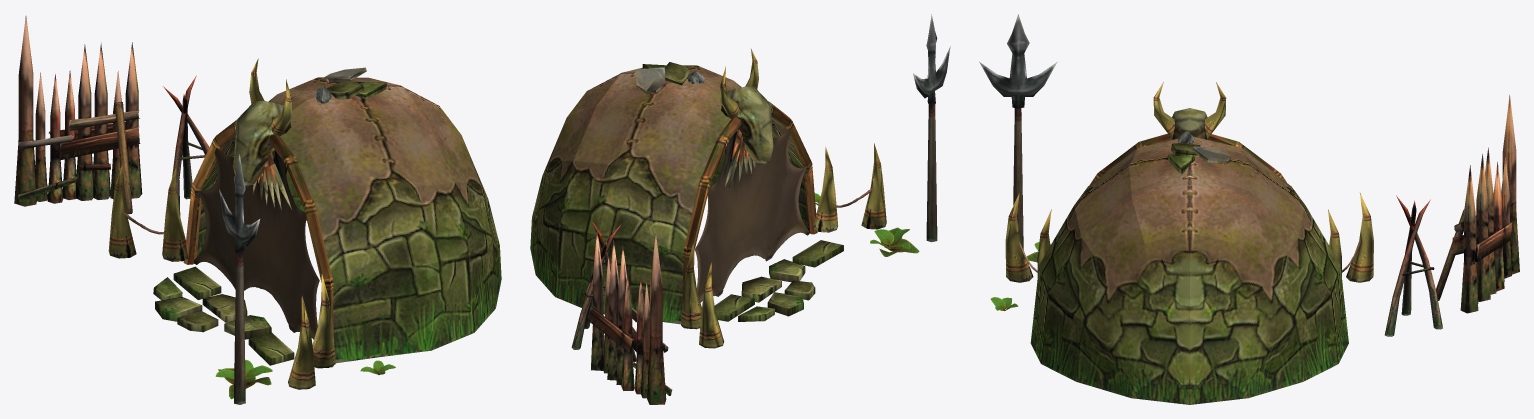
Rendered from dongxue.FBX.
The picture shows the model from 3 angles, left to right: view 1: azimuth 30°, elevation 25°; view 2: azimuth 150°, elevation 25°; view 3: azimuth 270°, elevation 25°; orthographic projection. The views are drawn at different scales.
Parts seen in each view (by area): view 1: dongxue, wujian_01, wujian_03, wujian_02, wujian_012, wujian_06, wujian_09, wujian_04, wujian_010, wujian_07, wujian_08, wujian_011; view 2: dongxue, wujian_01, wujian_03, wujian_02, wujian_06, wujian_04, wujian_012, wujian_010, wujian_07, wujian_09, wujian_08, wujian_011; view 3: dongxue, wujian_01, wujian_03, wujian_02.
Part boxes in pixels (<box>): dongxue: <box>108,58,501,389</box>; wujian_01: <box>14,16,142,214</box>; wujian_03: <box>219,154,260,404</box>; wujian_02: <box>163,75,209,216</box>; wujian_012: <box>173,266,221,299</box>; wujian_06: <box>248,332,294,365</box>; wujian_09: <box>155,297,202,321</box>; wujian_04: <box>215,359,272,399</box>; wujian_010: <box>202,294,247,322</box>; wujian_07: <box>224,315,271,339</box>; wujian_08: <box>177,310,218,332</box>; wujian_011: <box>153,277,182,300</box>; dongxue: <box>530,49,886,348</box>; wujian_01: <box>587,229,672,404</box>; wujian_03: <box>913,14,950,242</box>; wujian_02: <box>571,221,621,349</box>; wujian_06: <box>792,240,843,267</box>; wujian_04: <box>870,227,919,256</box>; wujian_012: <box>714,294,754,321</box>; wujian_010: <box>741,276,781,302</box>; wujian_07: <box>769,259,805,282</box>; wujian_09: <box>767,292,803,316</box>; wujian_08: <box>784,280,815,300</box>; wujian_011: <box>738,306,774,321</box>; dongxue: <box>1005,82,1373,404</box>; wujian_01: <box>1436,95,1519,313</box>; wujian_03: <box>979,14,1057,248</box>; wujian_02: <box>1384,195,1442,336</box>.
Size of the model in its own units: 103 by 73.97 by 148.
1 material, 1 textured.
